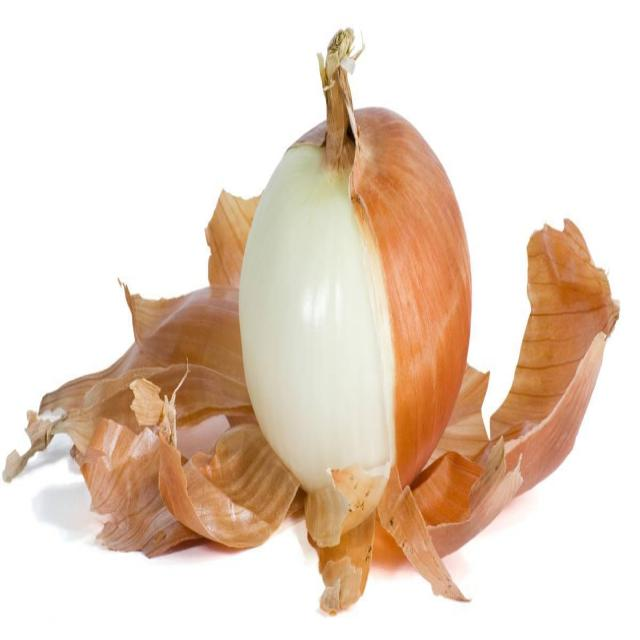Onion: (304, 218, 622, 614), (2, 187, 298, 560), (239, 25, 474, 491)
